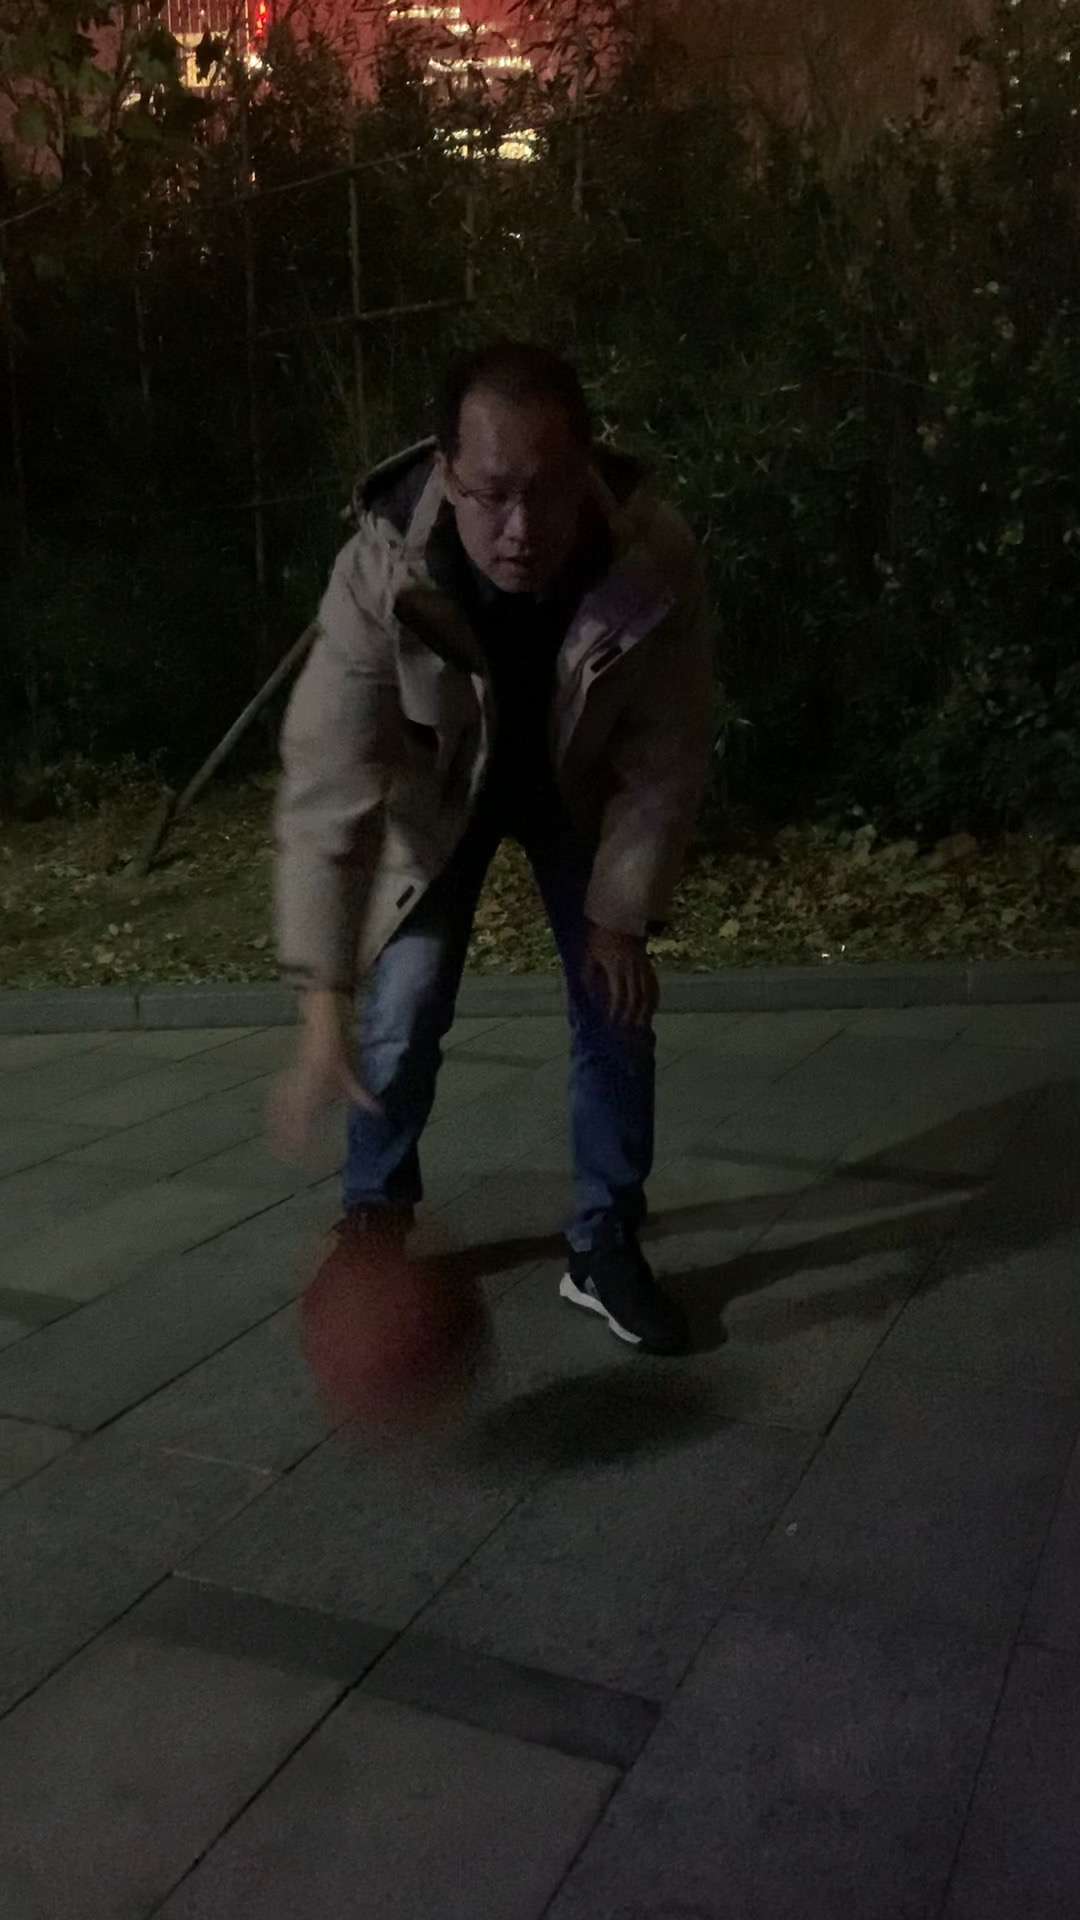ball: (299, 1241, 502, 1427)
